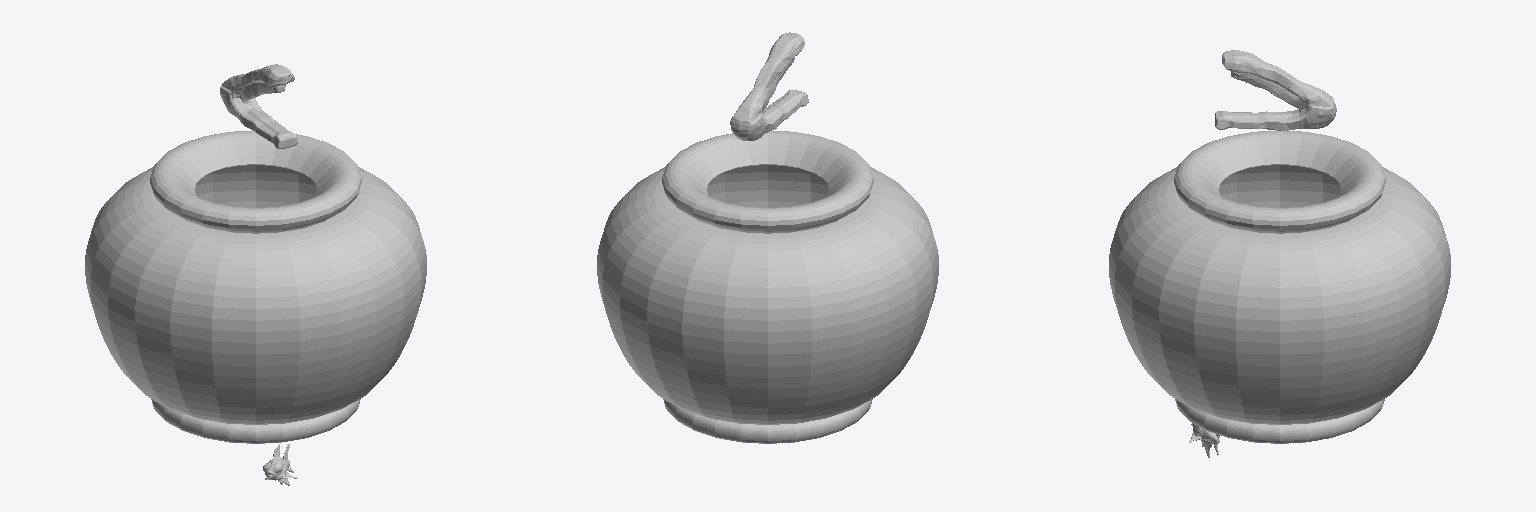
Rendered from Attempt two.obj.
The picture shows the model from 3 angles: view 1: azimuth 30°, elevation 25°; view 2: azimuth 150°, elevation 25°; view 3: azimuth 270°, elevation 25°; orthographic projection.
Visible parts, largest first — view 1: FixingMaya:fishbowl, FixingMaya:Stapler1, FixingMaya:Fish; view 2: FixingMaya:fishbowl, FixingMaya:Stapler1; view 3: FixingMaya:fishbowl, FixingMaya:Stapler1.
Boxes of the visible parts, x1,y1,x2,y2 form: FixingMaya:fishbowl: [85, 130, 426, 443]; FixingMaya:Stapler1: [220, 64, 297, 148]; FixingMaya:Fish: [263, 444, 297, 485]; FixingMaya:fishbowl: [597, 131, 938, 443]; FixingMaya:Stapler1: [730, 32, 808, 140]; FixingMaya:fishbowl: [1109, 131, 1450, 443]; FixingMaya:Stapler1: [1215, 50, 1336, 130].
Bounding box in the file's own units: 28.35 × 37.14 × 28.35.